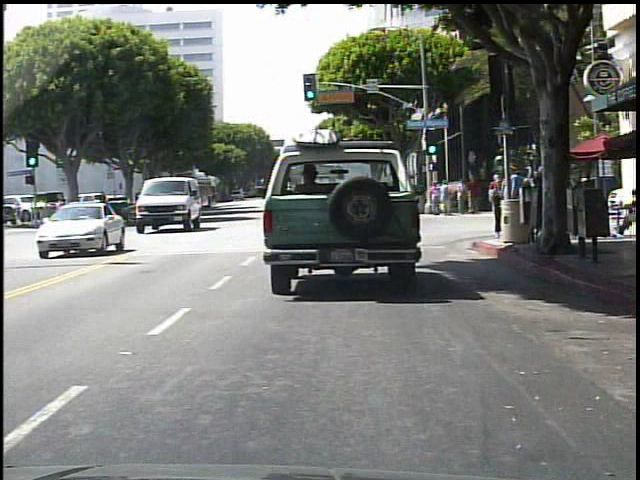person: (507, 167, 525, 236), (521, 175, 539, 229), (487, 171, 505, 221), (494, 173, 508, 237), (537, 175, 549, 219), (467, 172, 479, 212), (441, 179, 453, 216), (457, 178, 468, 213), (431, 183, 442, 215)
